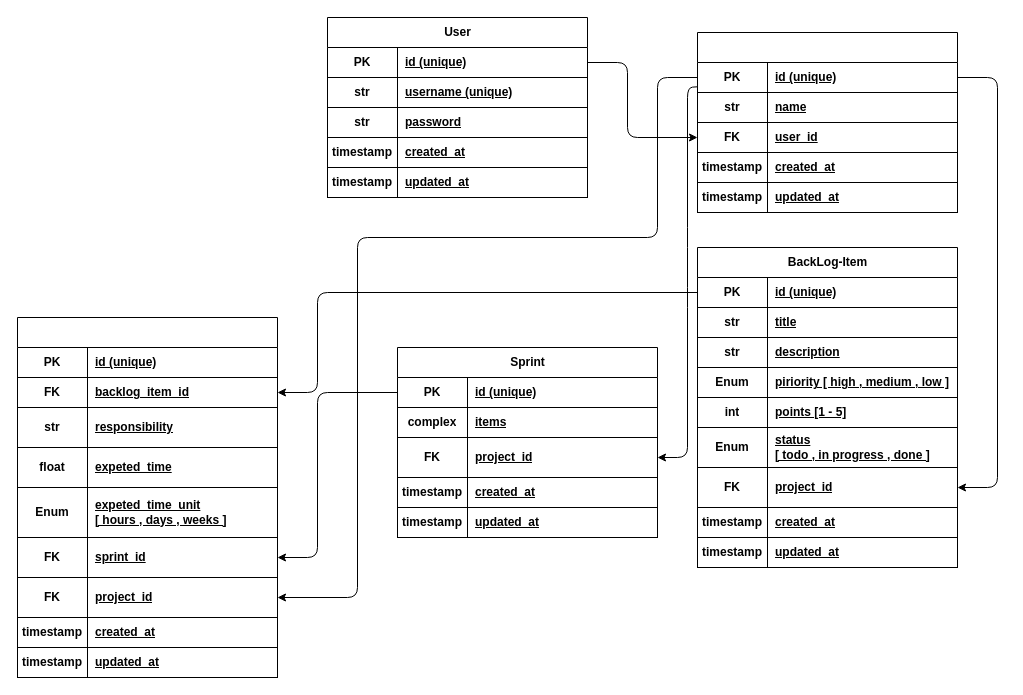
Image size: 1023x695. Some labels were removed from this diagram. The shapes that lost their labels are listed below. From the top down, each one's box as (x1, y1, x2, y2) in pixels, then its label:
(696, 32, 958, 212): Project
(16, 316, 278, 678): Sprint-Item
